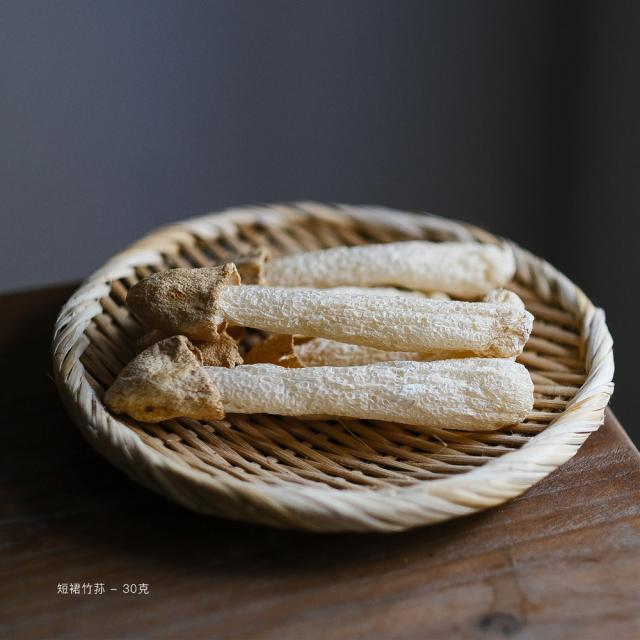Dictyophora indusiate: (104, 339, 533, 428), (128, 264, 536, 350), (226, 246, 519, 294)
